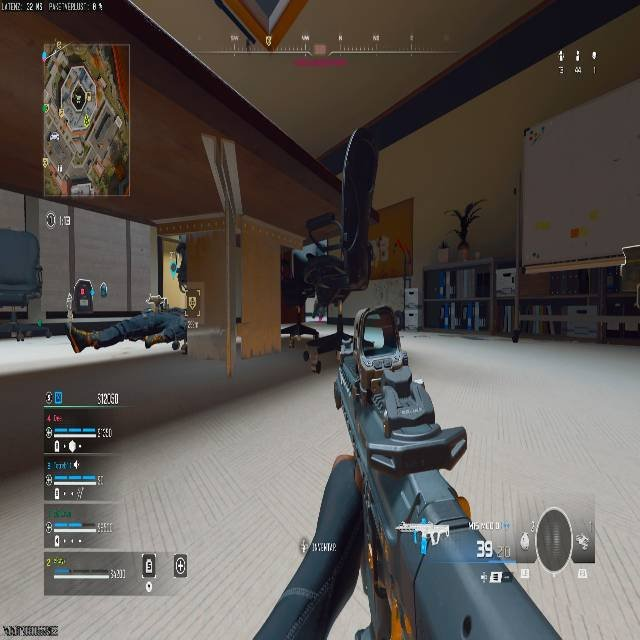head: (145, 293, 168, 313)
player: (293, 237, 352, 370), (66, 293, 188, 354)
